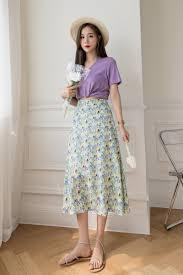Tshirt: (60, 53, 128, 100)
skirt: (55, 98, 136, 231)
